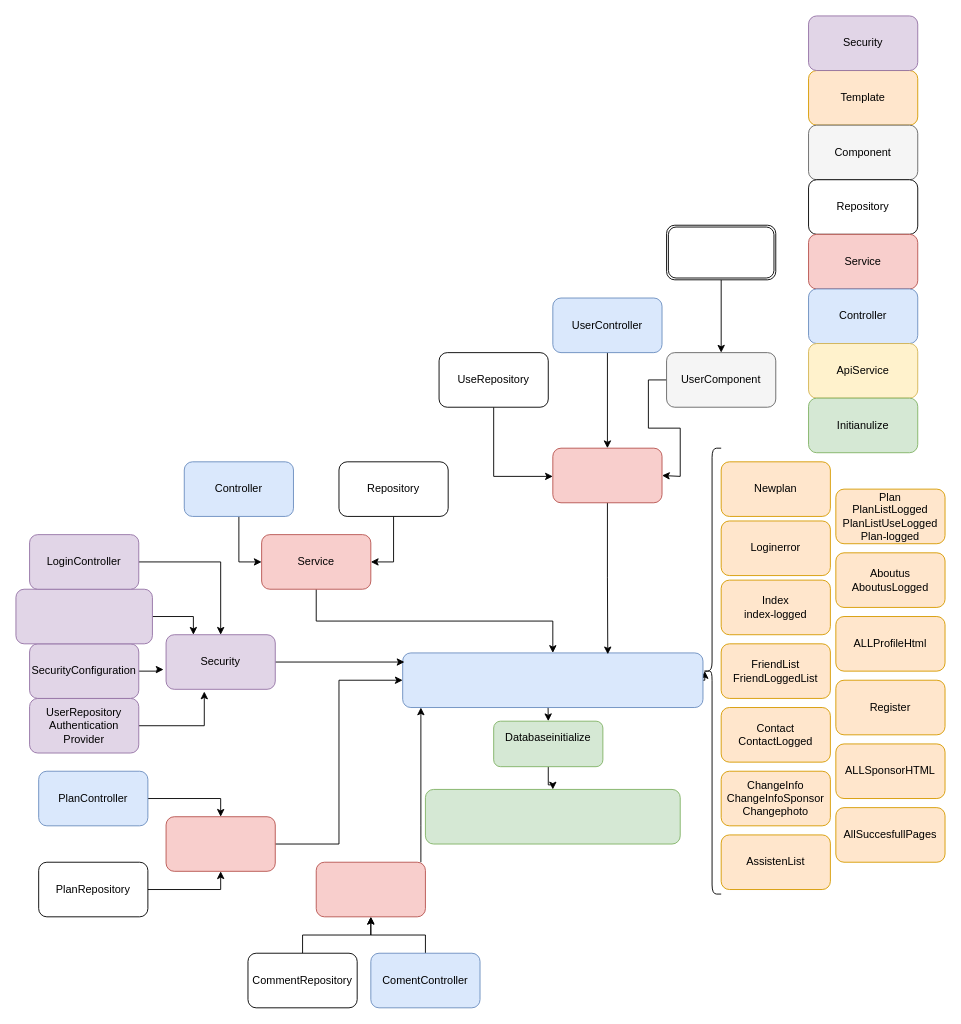
The diagram is 961 pixels wide and 1024 high, and some of its shapes have lost their labels. Each missing label, with the centre of its shape:
"Comment" goes at point 370,889.
"ModuleImages" goes at point 721,252.
"Plan" goes at point 220,843.
"RestSecurityConfiguration" goes at point 83,616.
"User" goes at point 607,475.
"WebPageController" goes at point 552,680.
"WePlanningApiApplication" goes at point 552,816.
